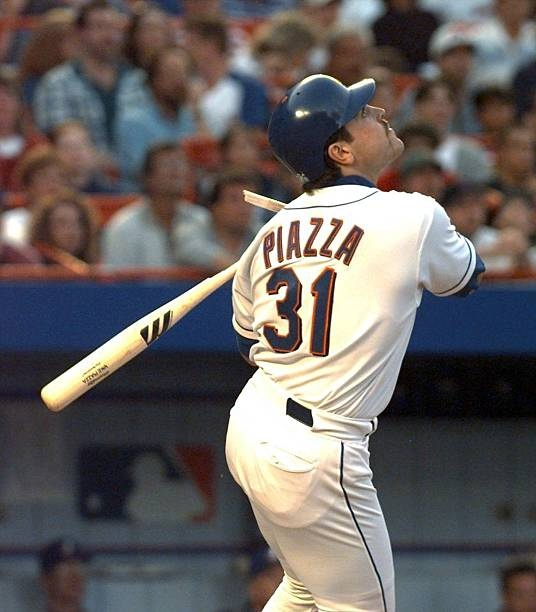bita: (39, 273, 244, 409)
